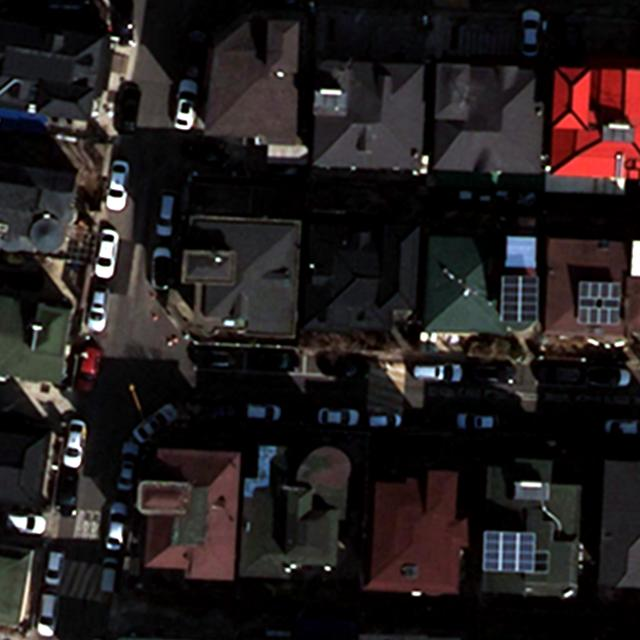panel: (482, 529, 536, 574), (499, 273, 540, 325), (577, 280, 622, 327)
